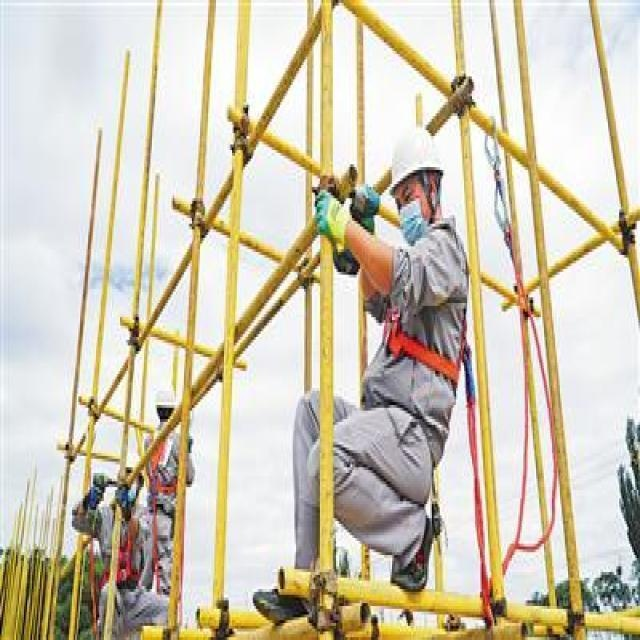Arnes_seguridad: (378, 215, 477, 402)
